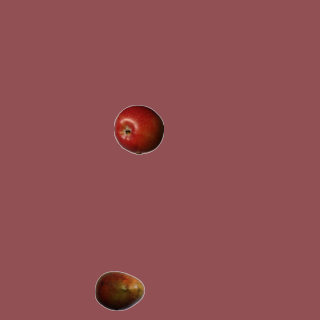Apple Braeburn: (113, 104, 163, 154)
Mango Red: (94, 265, 144, 315)
